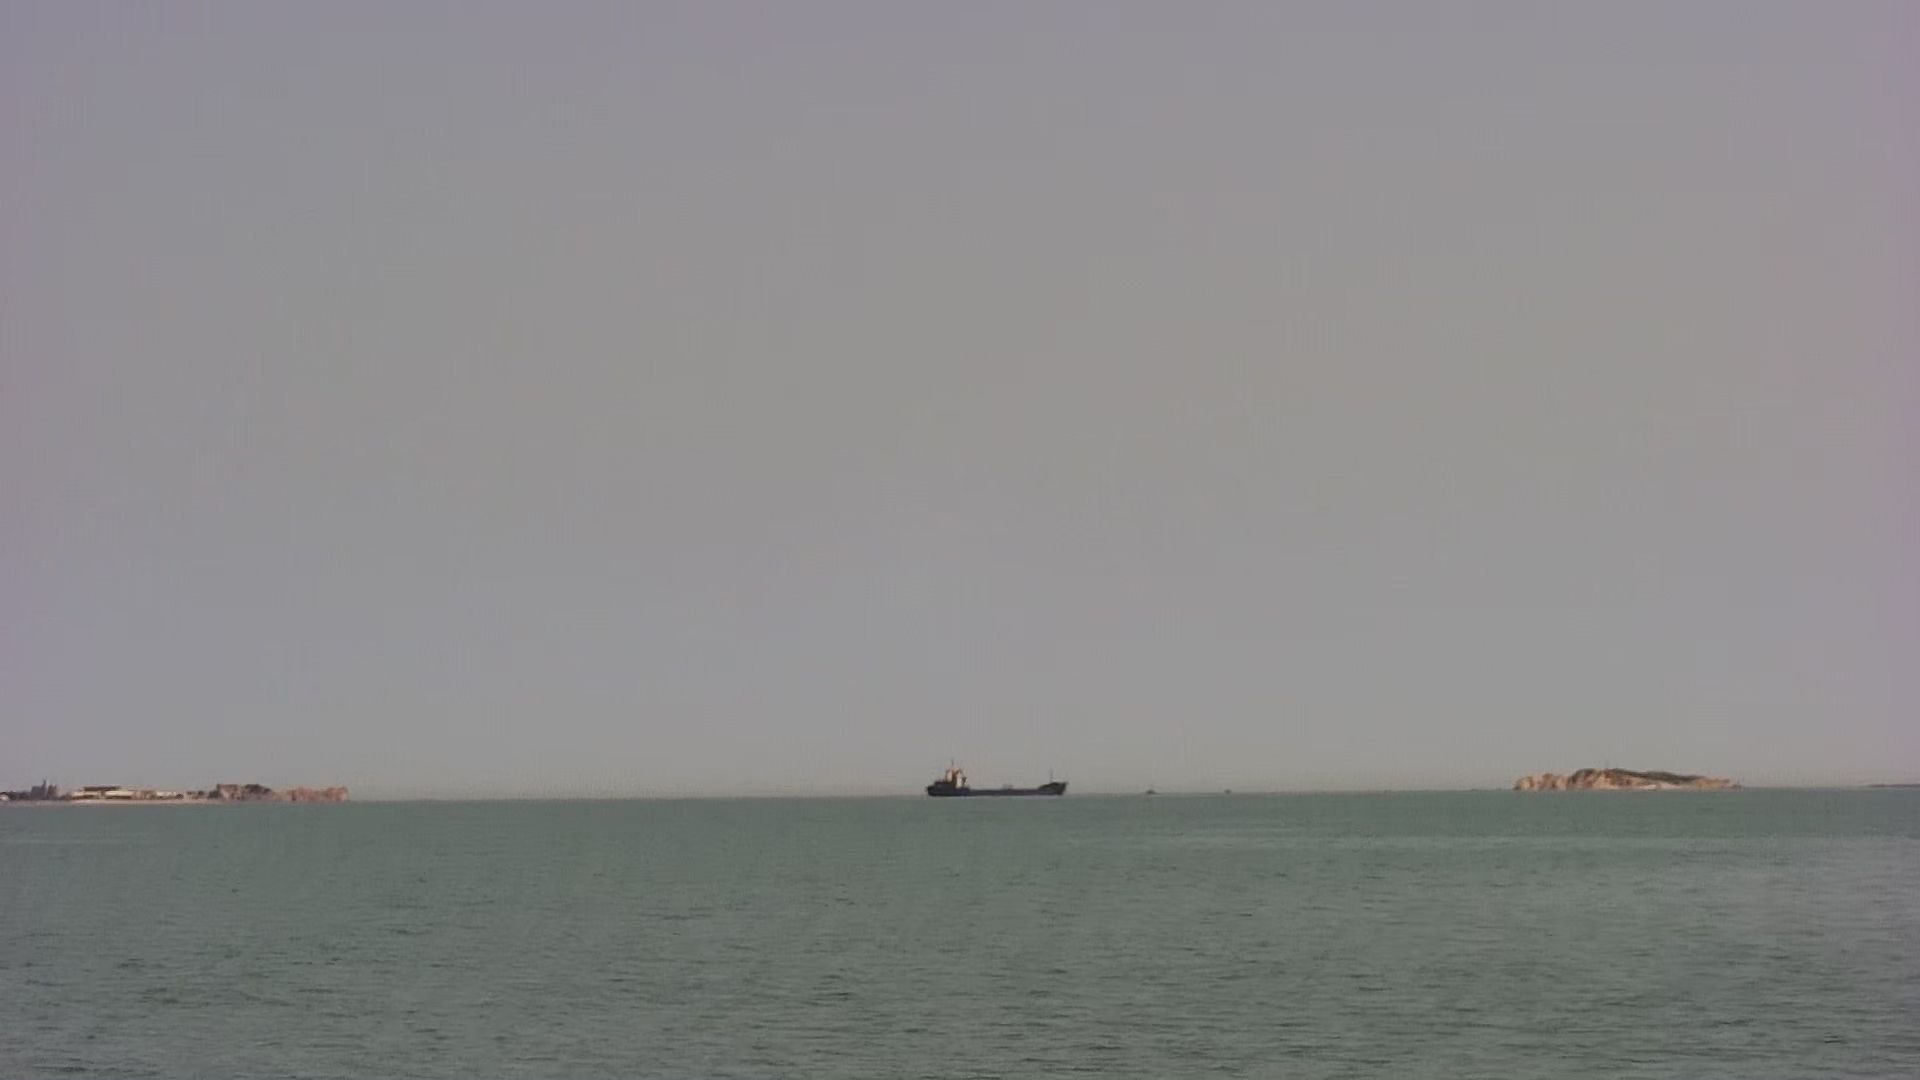rock: (1, 777, 363, 804), (1505, 764, 1749, 794)
ship: (923, 761, 1069, 800)
